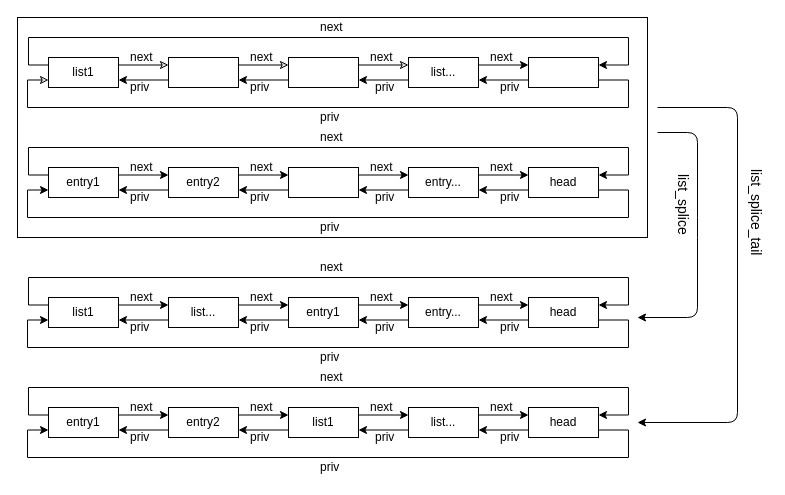
Some shapes in this 785 by 495 pixel diagram are drawn without their labels. Here are the shapes that lost their labels. From the top down, the centre of each, then its label:
(x=203, y=72): list2
(x=323, y=72): list3
(x=563, y=72): list
(x=323, y=182): entry3
